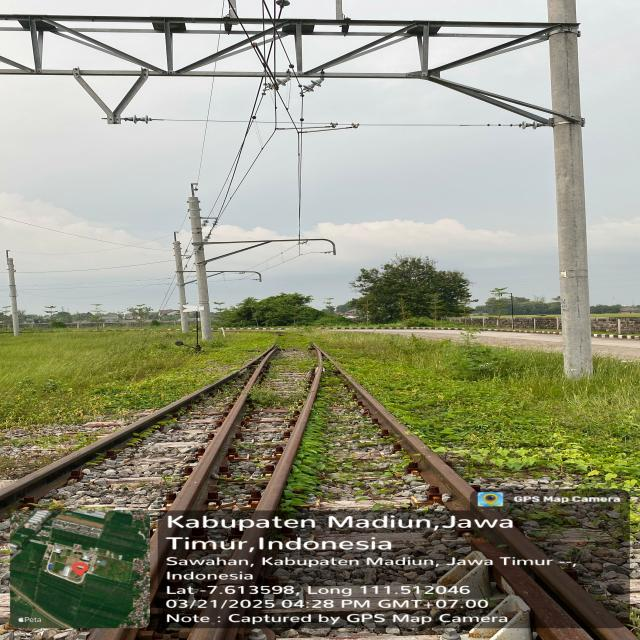rail-detection: (340, 370, 637, 640), (0, 346, 279, 601), (187, 345, 324, 640), (90, 628, 145, 640)
